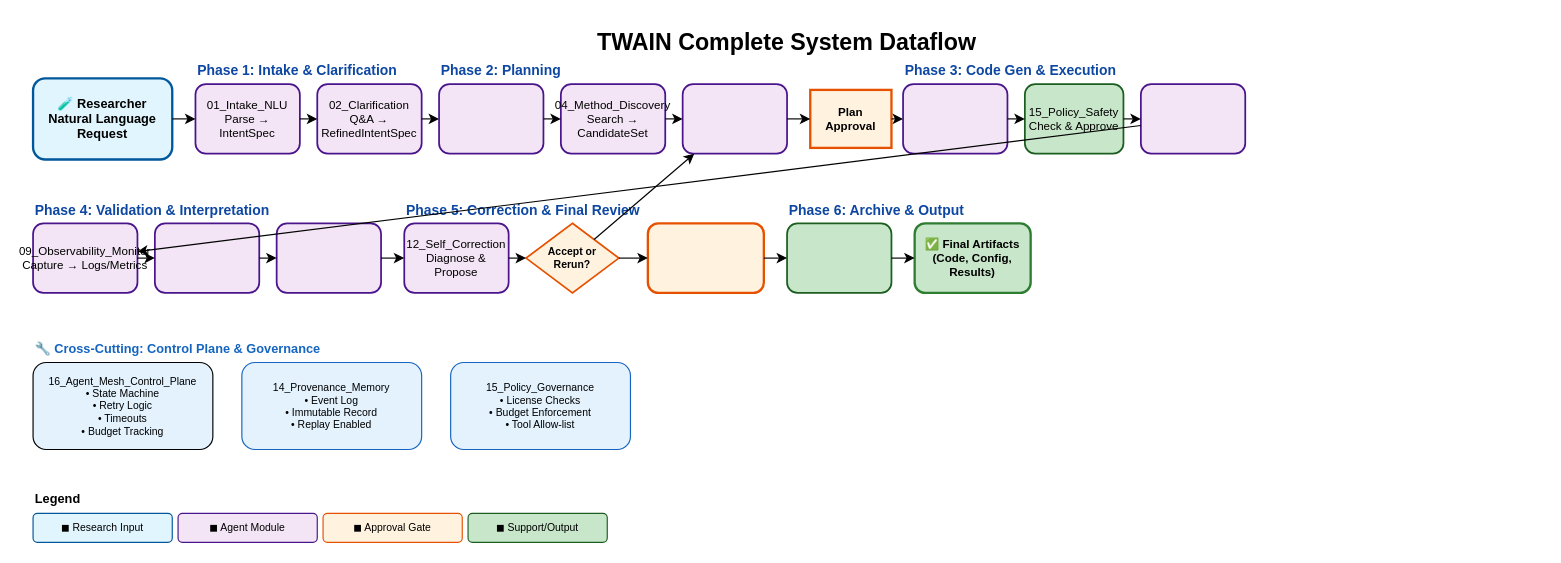
Some shapes in this 1561 by 563 pixel diagram are drawn without their labels. The box of each missing label's shape, as (x1, y1, x2, y2) in pixels:
03_Goal_Decomposer SubGoals → GoalGraph: (438, 83, 544, 154)
05_Plan_Synthesis Select → ExecutionPlan: (681, 83, 787, 154)
06_Code_Config_Builder Generate → RunBundle: (902, 83, 1008, 154)
08_Execution_Adapter Run Code (Local/HPC): (1139, 83, 1246, 154)
10_Result_Interpreter Parse → ResultPackage: (153, 222, 260, 293)
11_Cross_Validation Compare → ValidationReport: (275, 222, 381, 293)
13_Human_In_Loop Final Review & Approval: (646, 222, 764, 293)
14_Provenance_Memory Archive Run Record: (786, 222, 892, 293)
